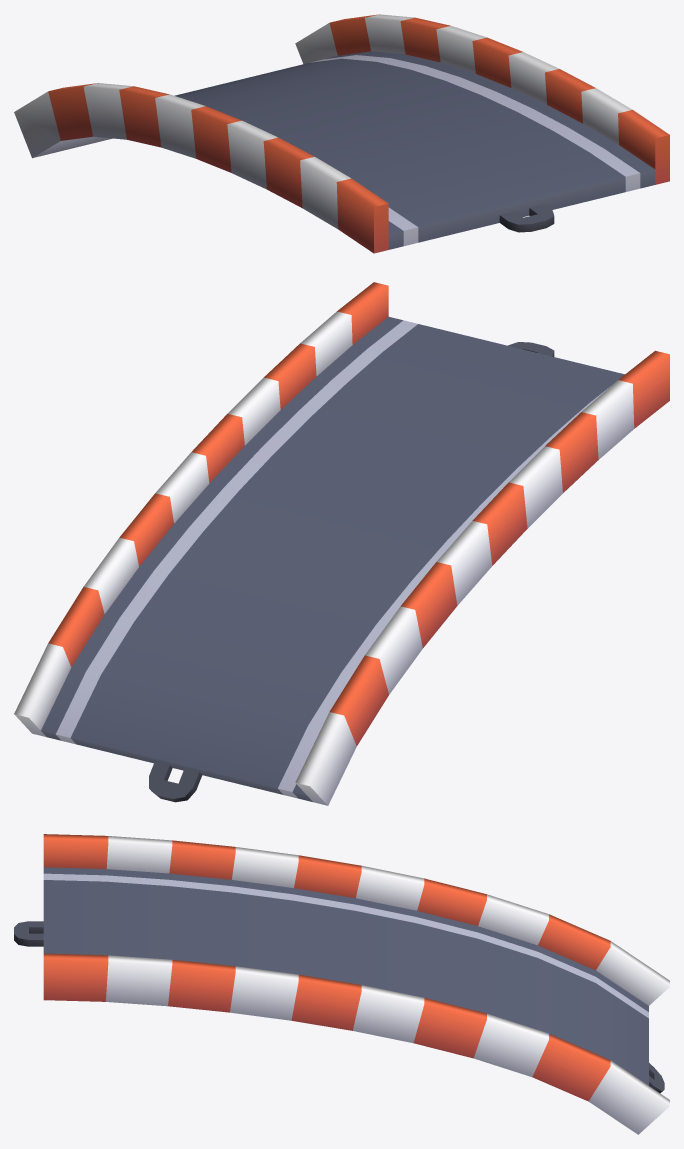
Rendered from kenney-toy-car-track-road-wide-straight-hill-end.glb.
The picture shows the model from 3 angles, top to bottom: view 1: azimuth 30°, elevation 25°; view 2: azimuth 150°, elevation 25°; view 3: azimuth 270°, elevation 25°; orthographic projection. The views are drawn at different scales.
Parts seen in each view (by area): view 1: track-road-wide-straight-hill-end; view 2: track-road-wide-straight-hill-end; view 3: track-road-wide-straight-hill-end.
Boxes of the visible parts, x1=… form: track-road-wide-straight-hill-end: x1=14, y1=14, x2=669, y2=253; track-road-wide-straight-hill-end: x1=14, y1=282, x2=669, y2=805; track-road-wide-straight-hill-end: x1=14, y1=834, x2=669, y2=1134.
Bounding box in the file's own units: 2 × 1.44 × 4.41.
1 material, 1 textured.
